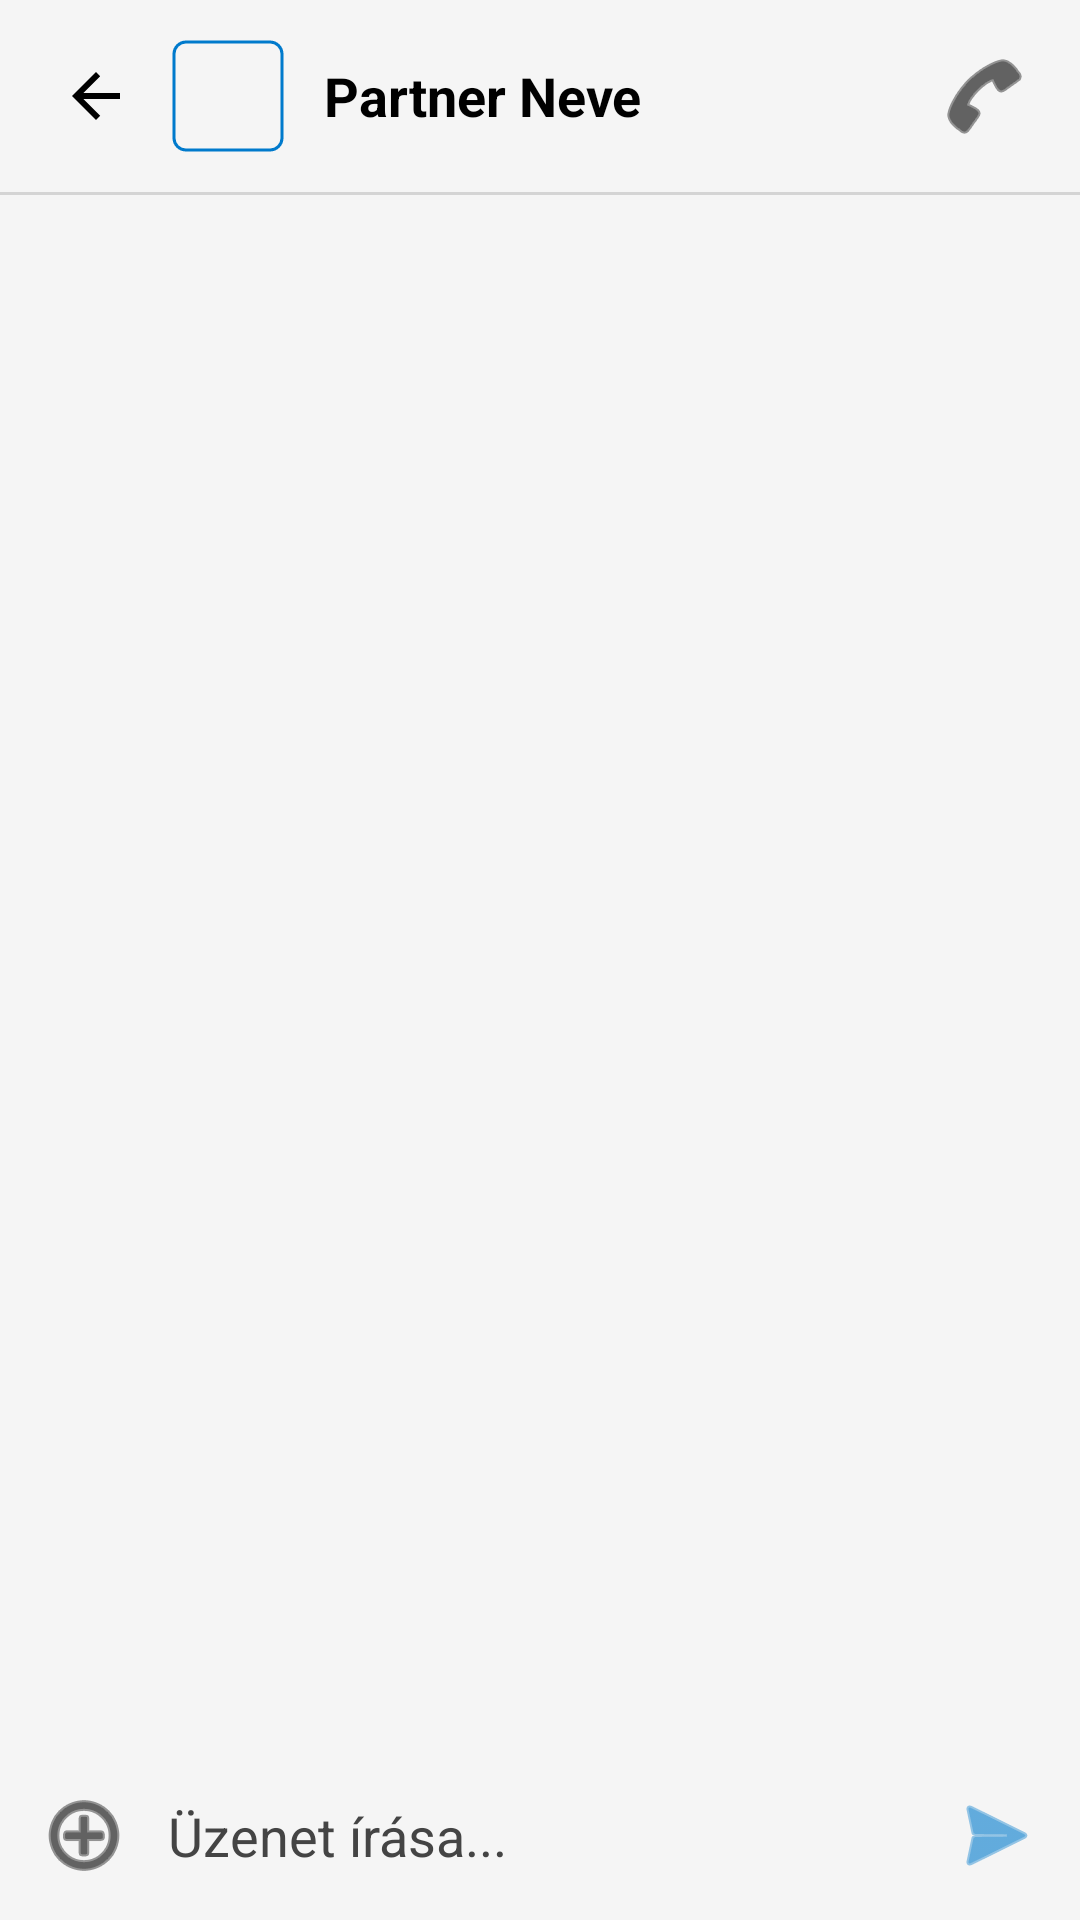

Named icons in this screenshot (1080*1920) and their bounding boxes, (x1, y1, x2, y2):
add: (48, 1800, 120, 1871)
call: (947, 59, 1022, 134)
send: (966, 1805, 1028, 1866)
Vissza: (72, 72, 120, 120)
